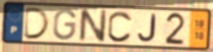2: (164, 11, 187, 47)
C: (106, 10, 134, 44)
D: (22, 6, 52, 41)
G: (52, 8, 78, 42)
J: (137, 13, 158, 43)
N: (78, 8, 109, 43)
